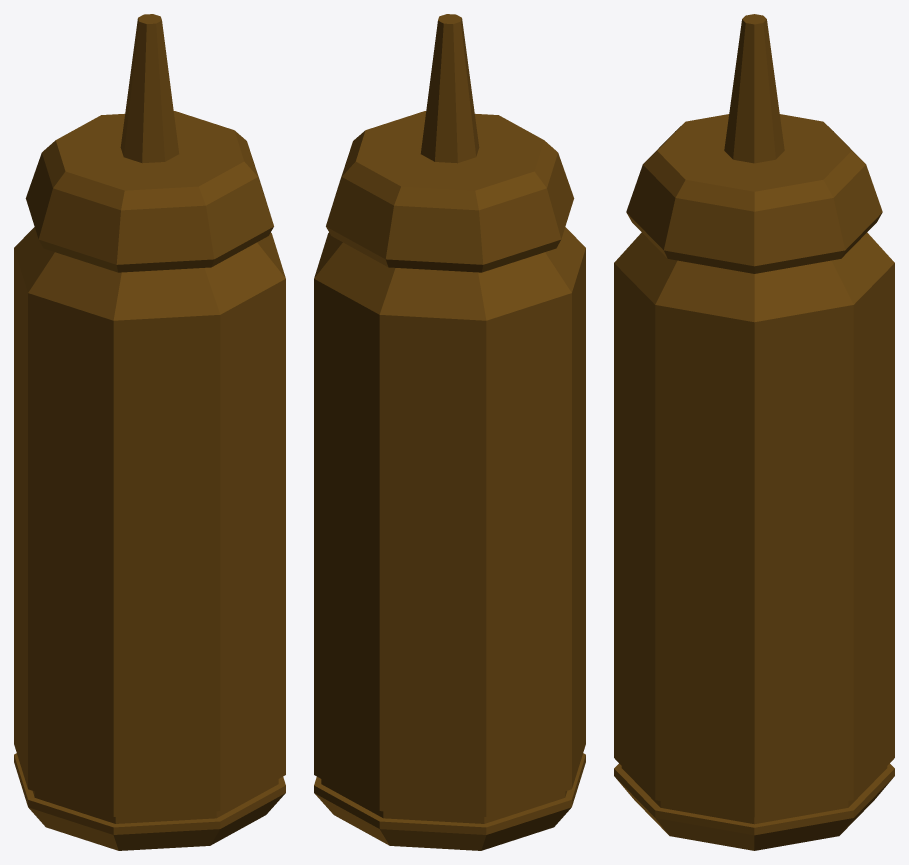
File: MustardBottle.obj
3 renders of one model, left to right at view 1: azimuth 30°, elevation 25°; view 2: azimuth 150°, elevation 25°; view 3: azimuth 270°, elevation 25°, orthographic.
Parts seen in each view (by area): view 1: MustardBottle_Cylinder.014; view 2: MustardBottle_Cylinder.014; view 3: MustardBottle_Cylinder.014.
Boxes of the visible parts, left/top/right/bottom form: MustardBottle_Cylinder.014: left=14, top=14, right=285, bottom=850; MustardBottle_Cylinder.014: left=314, top=14, right=585, bottom=850; MustardBottle_Cylinder.014: left=614, top=14, right=894, bottom=850.
Bounding box in the file's own units: 0.4996 × 1.53 × 0.4996.
